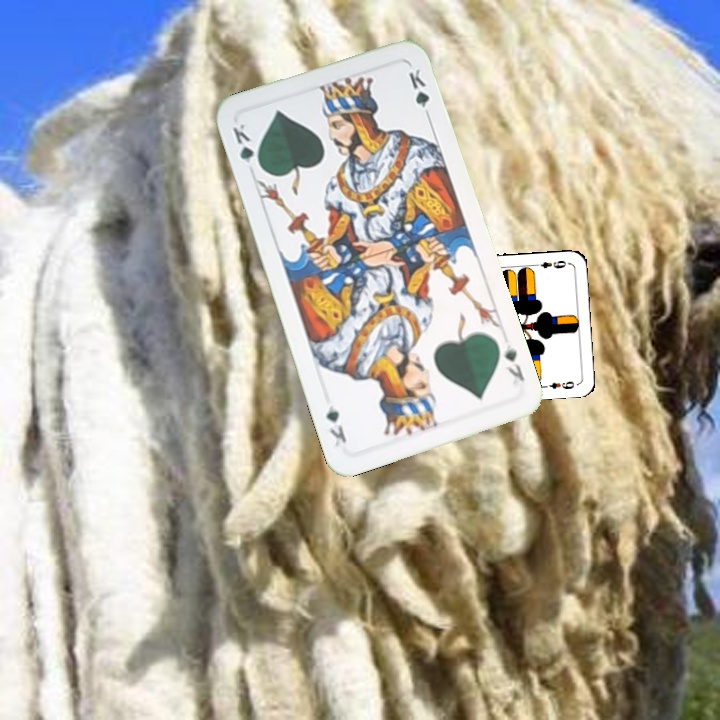E9: (530, 256, 568, 271)
GK: (228, 119, 264, 173), (500, 340, 527, 391)
